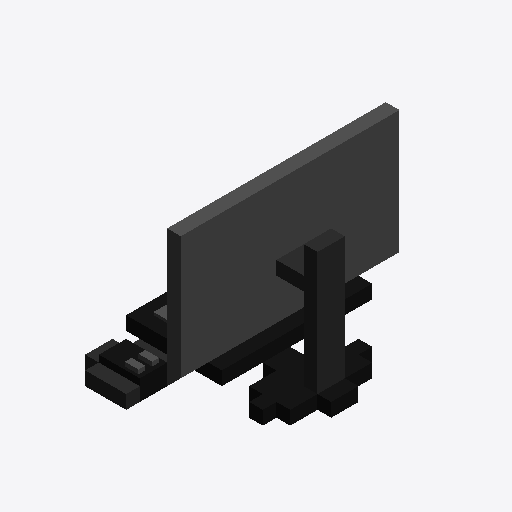
A Minecraft block model of 56 cuboids, rendered isometrically (azimuth 45°, elevation 35.3°) with the resource pack's own textures.
Parts seen in each view (by area): element 17, element 4, element 14, element 19, element 15, element 9, element 6, element 53, element 52, element 16, element 1, element 2 (+6 smaller).
Part boxes in pixels (x1,y1,x2,y2): element 17: (195, 134, 385, 353); element 4: (304, 229, 344, 393); element 14: (181, 110, 385, 243); element 19: (208, 276, 371, 385); element 15: (167, 244, 194, 361); element 9: (195, 244, 385, 369); element 6: (249, 370, 316, 424); element 53: (99, 339, 166, 401); element 52: (85, 363, 139, 409); element 16: (386, 126, 398, 243); element 1: (317, 378, 357, 417); element 2: (263, 347, 303, 385).
Bounding box in the file's own units: 16 × 13 × 13.